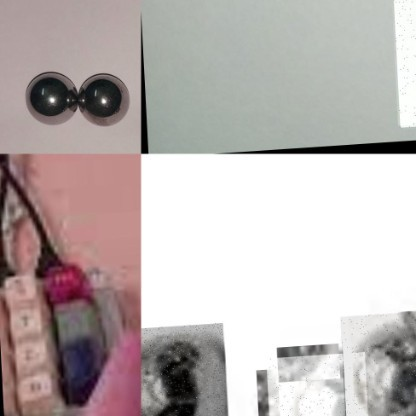ironball: (336, 315, 415, 415), (141, 325, 224, 415), (262, 356, 364, 415), (21, 66, 77, 126), (75, 68, 131, 126)
